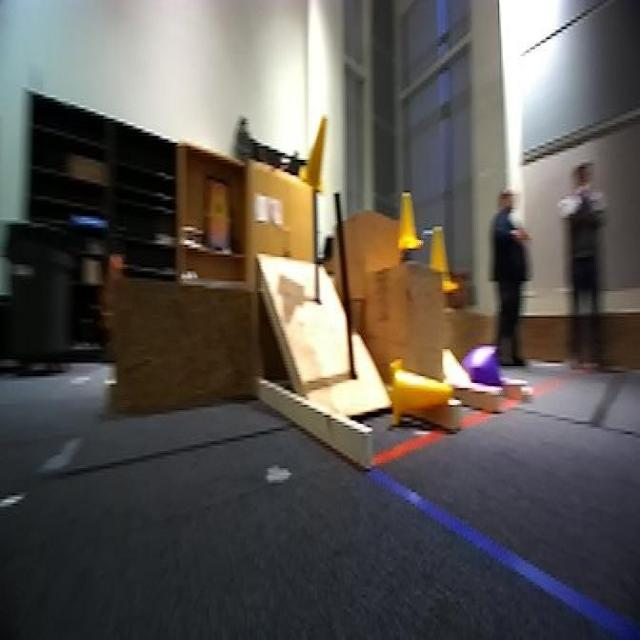frc_cone: (388, 354, 455, 437), (299, 110, 332, 190), (429, 225, 461, 291), (397, 192, 421, 254)
frc_cube: (463, 347, 499, 393)
